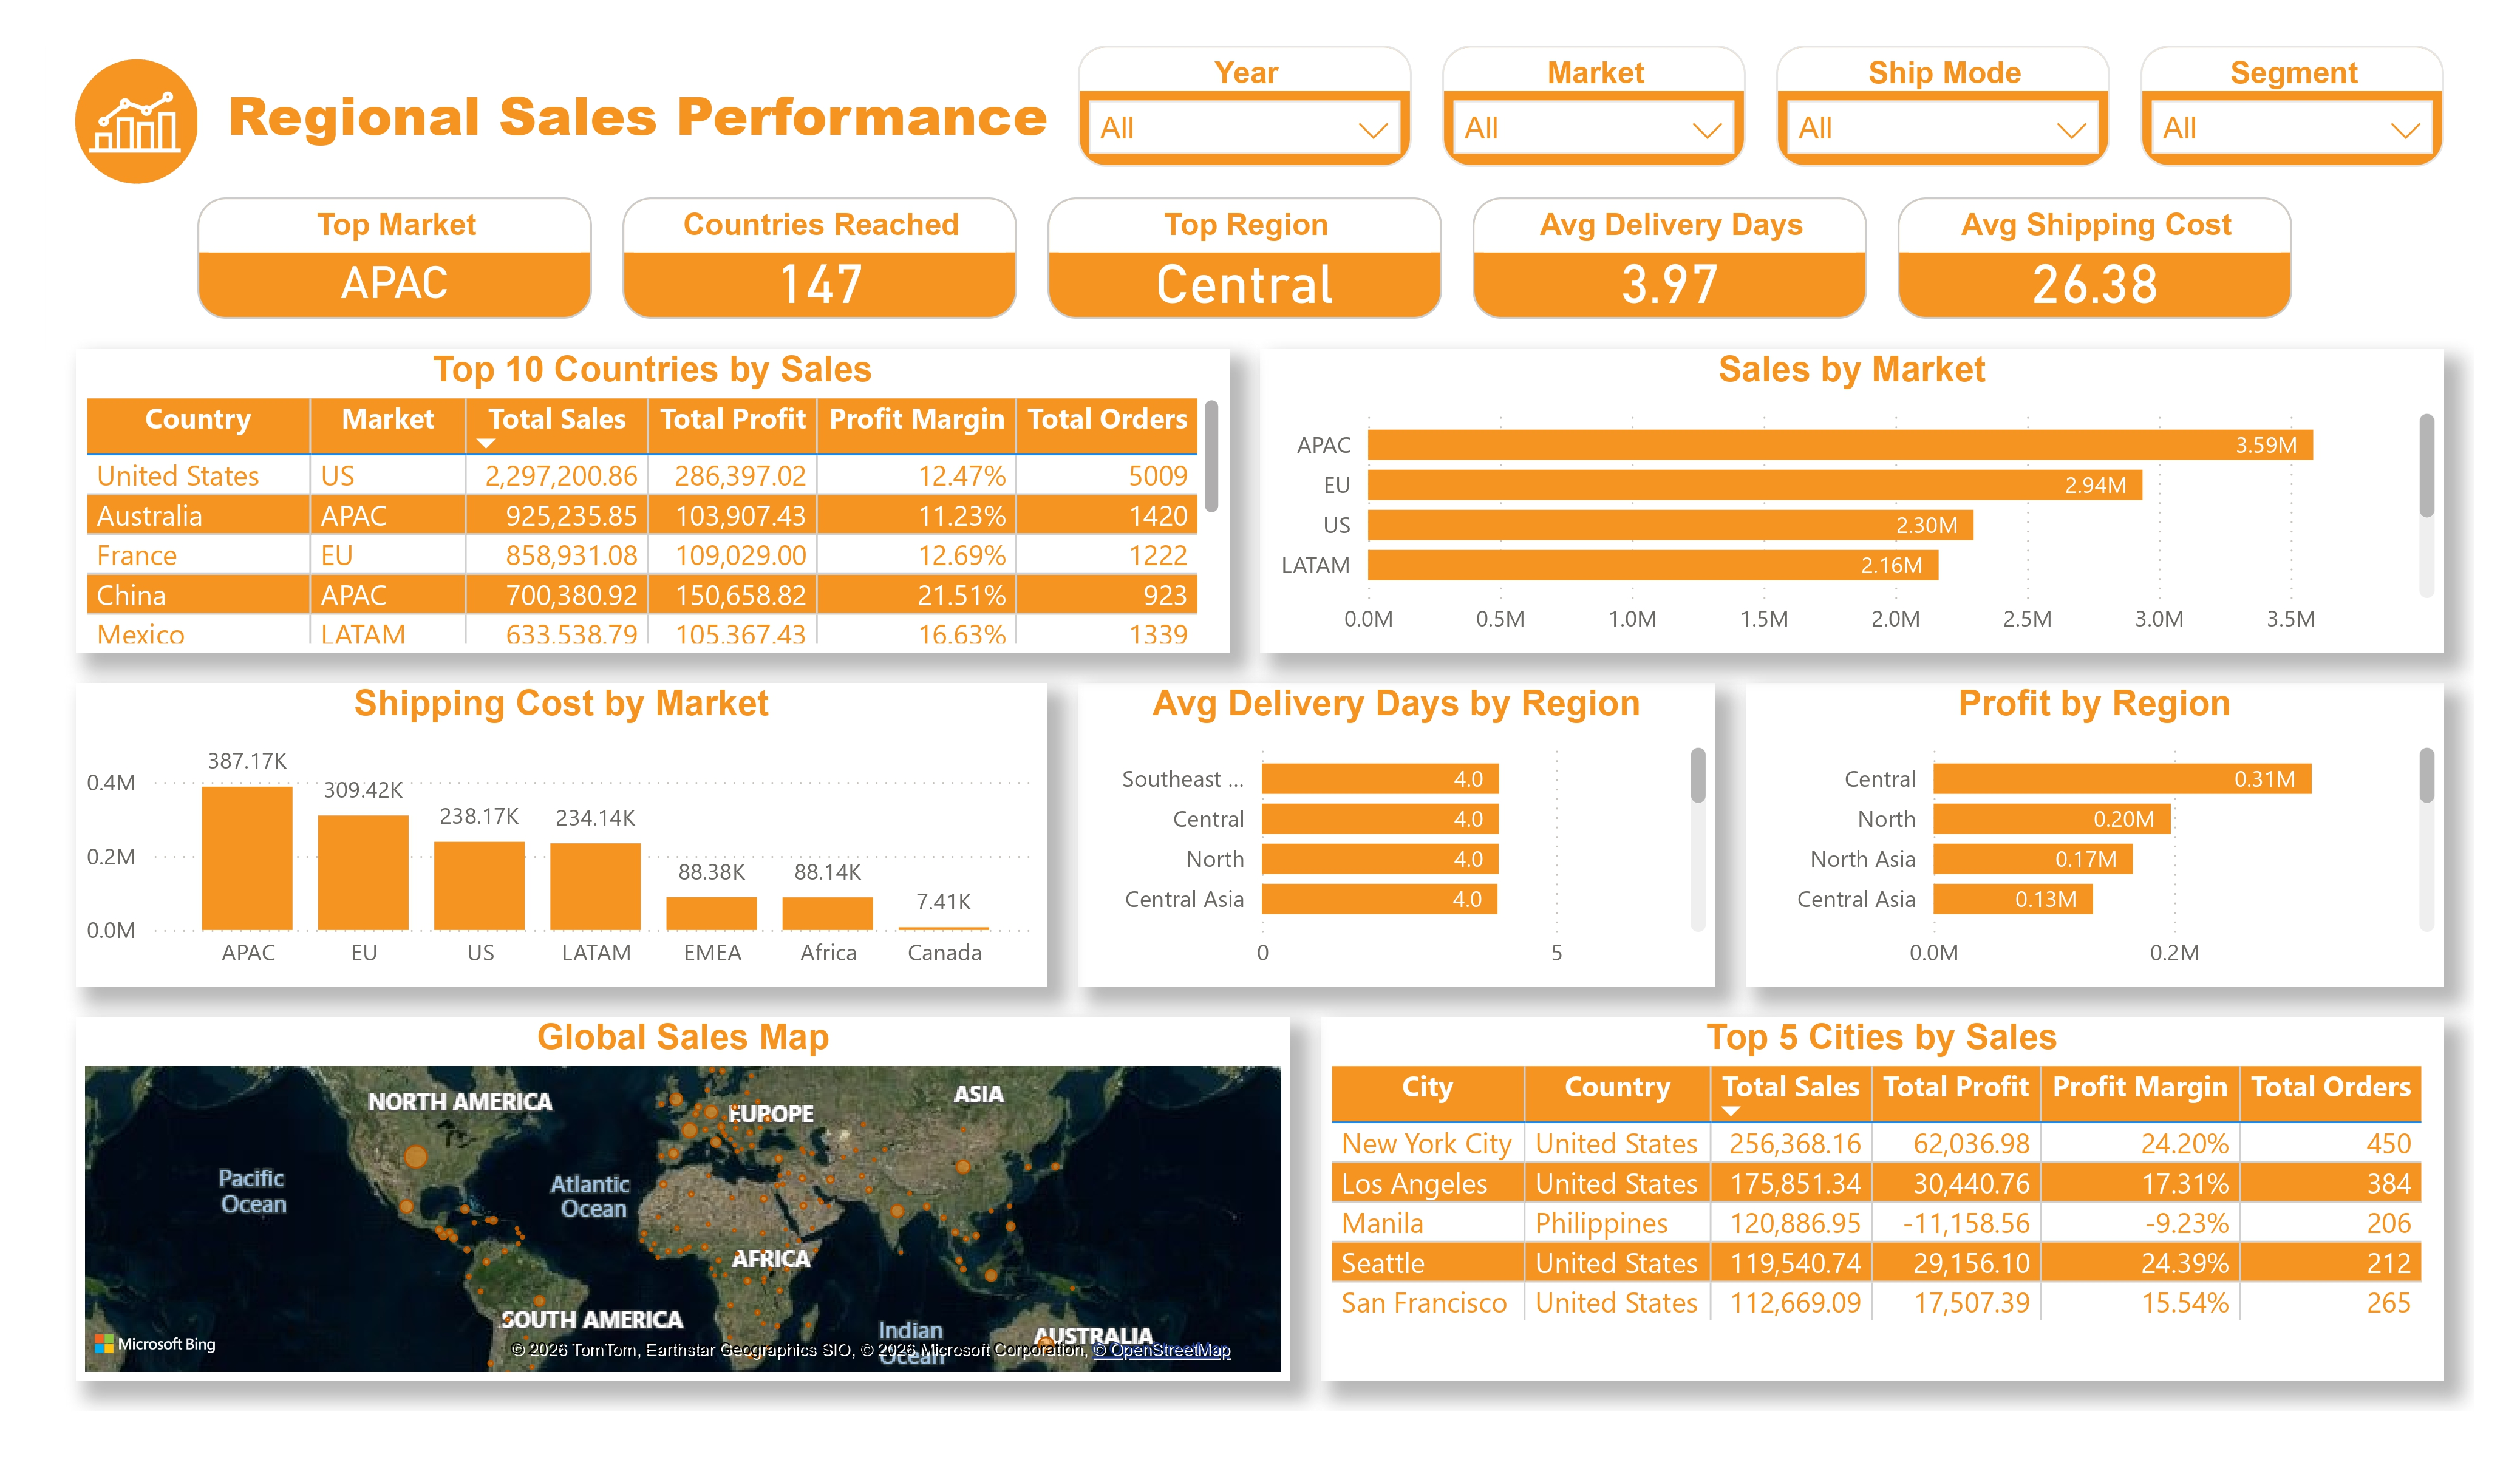

The page's visual inventory and layout, read from the dashboard file:
{"tool":"powerbi","page":{"name":"Geography","canvas":[1280,720],"ordinal":3},"visuals":[{"type":"image","box":[0,0,96,80],"z":0},{"type":"textbox","title":"Regional Sales Performance","box":[80,16,464,48],"z":1000},{"type":"slicer","title":"Year","fields":{"Values":["date_table.Year"]},"box":[544,0,176,64],"z":2000},{"type":"slicer","title":"Market","fields":{"Values":["dim_geography.Market"]},"box":[736,0,160,64],"z":3000},{"type":"slicer","title":"Ship Mode","fields":{"Values":["fact_sales.Ship_Mode"]},"box":[912,0,176,64],"z":4000},{"type":"slicer","title":"Segment","fields":{"Values":["dim_customer.Segment"]},"box":[1104,0,160,64],"z":5000},{"type":"card","title":"Top Market","fields":{"Values":["fact_sales.Top Market"]},"box":[80,80,208,64],"z":6000},{"type":"card","title":"Countries Reached","fields":{"Values":["fact_sales.Countries Reached"]},"box":[304,80,208,64],"z":7000},{"type":"card","title":"Top Region","fields":{"Values":["fact_sales.Top Region"]},"box":[528,80,208,64],"z":8000},{"type":"card","title":"Avg Delivery Days","fields":{"Values":["fact_sales.Avg Delivery Days"]},"box":[752,80,208,64],"z":9000},{"type":"card","title":"Avg Shipping Cost","fields":{"Values":["fact_sales.Avg Shipping Cost"]},"box":[976,80,208,64],"z":10000},{"type":"clusteredBarChart","title":"Avg Delivery Days by Region","fields":{"Category":["dim_geography.Region"],"Y":["fact_sales.Avg Delivery Days"]},"box":[544,336,336,160],"z":11000},{"type":"clusteredBarChart","title":"Profit by Region","fields":{"Category":["dim_geography.Region"],"Y":["fact_sales.Total Profit"]},"box":[896,336,368,160],"z":12000},{"type":"clusteredBarChart","title":"Sales by Market","fields":{"Y":["fact_sales.Total Sales"],"Category":["dim_geography.Market"]},"box":[640,160,624,160],"z":13000},{"type":"tableEx","title":"Top 10 Countries by Sales","fields":{"Values":["dim_geography.Country","dim_geography.Market","fact_sales.Total Sales","fact_sales.Total Profit","fact_sales.Profit Margin","fact_sales.Total Orders"]},"box":[16,160,608,160],"z":14000},{"type":"clusteredColumnChart","title":"Shipping Cost by Market","fields":{"Category":["dim_geography.Market"],"Y":["Sum(fact_sales.Shipping_Cost)"]},"box":[16,336,512,160],"z":15000},{"type":"tableEx","title":"Top 5 Cities by Sales","fields":{"Values":["dim_geography.City","dim_geography.Country","fact_sales.Total Sales","fact_sales.Total Profit","fact_sales.Profit Margin","fact_sales.Total Orders"]},"box":[672,512,592,192],"z":16000},{"type":"map","title":"Global Sales Map","fields":{"Category":["dim_geography.Country"],"Size":["fact_sales.Total Sales"]},"box":[16,512,640,192],"z":17000}]}

Visuals, with their boxes on the page's 1280x720 design canvas (x1, y1, x2, y2). These are canvas units, not pixel positions in the 2520x1457 screenshot, which may show the page scaled, cropped or inside an application window:
image: 0, 0, 96, 80
"Regional Sales Performance" textbox: 80, 16, 544, 64
"Year" slicer: 544, 0, 720, 64
"Market" slicer: 736, 0, 896, 64
"Ship Mode" slicer: 912, 0, 1088, 64
"Segment" slicer: 1104, 0, 1264, 64
"Top Market" card: 80, 80, 288, 144
"Countries Reached" card: 304, 80, 512, 144
"Top Region" card: 528, 80, 736, 144
"Avg Delivery Days" card: 752, 80, 960, 144
"Avg Shipping Cost" card: 976, 80, 1184, 144
"Avg Delivery Days by Region" clusteredBarChart: 544, 336, 880, 496
"Profit by Region" clusteredBarChart: 896, 336, 1264, 496
"Sales by Market" clusteredBarChart: 640, 160, 1264, 320
"Top 10 Countries by Sales" tableEx: 16, 160, 624, 320
"Shipping Cost by Market" clusteredColumnChart: 16, 336, 528, 496
"Top 5 Cities by Sales" tableEx: 672, 512, 1264, 704
"Global Sales Map" map: 16, 512, 656, 704
